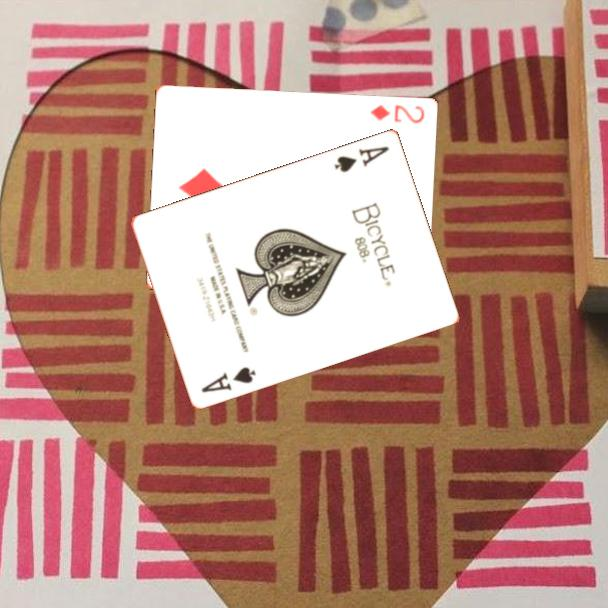d02: (367, 102, 427, 126)
s01: (331, 142, 392, 175), (198, 363, 259, 395)
